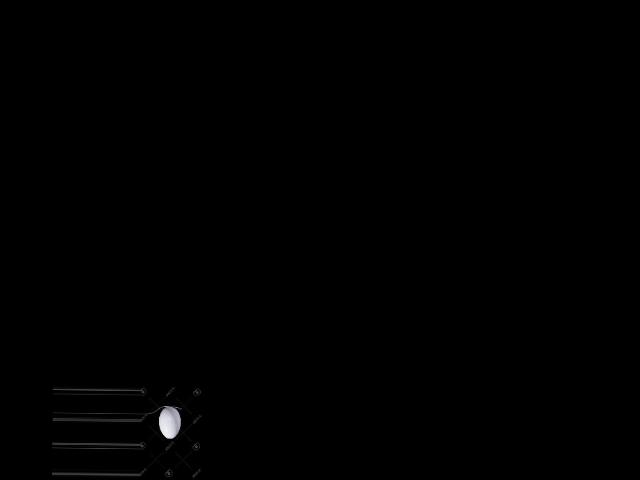egg: (158, 406, 180, 438)
